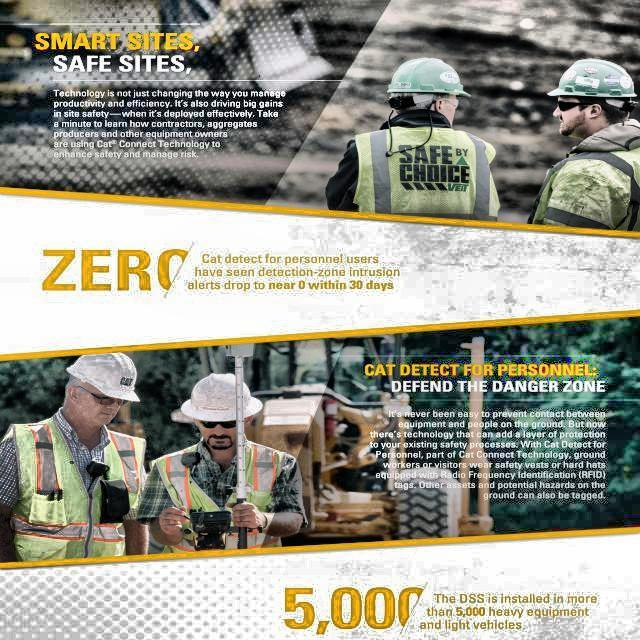safety_helmet: (72, 350, 152, 404), (384, 51, 476, 97), (180, 373, 264, 423), (548, 62, 640, 102)
safety_jacket: (154, 446, 294, 561), (2, 422, 109, 567), (344, 127, 496, 214), (534, 138, 640, 222)
